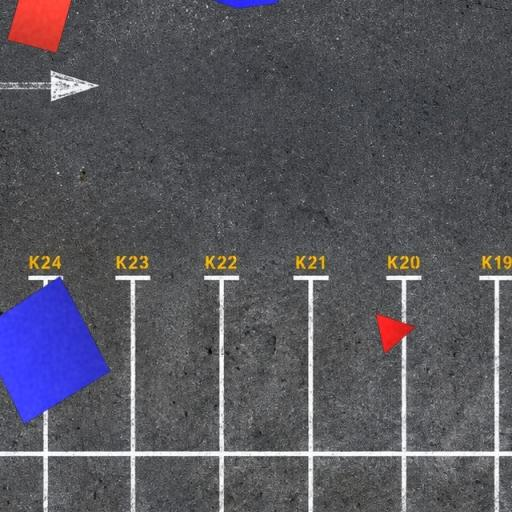BLUE_SQUARE: (0, 275, 111, 425)
RED_SQUARE: (6, 0, 73, 54)
